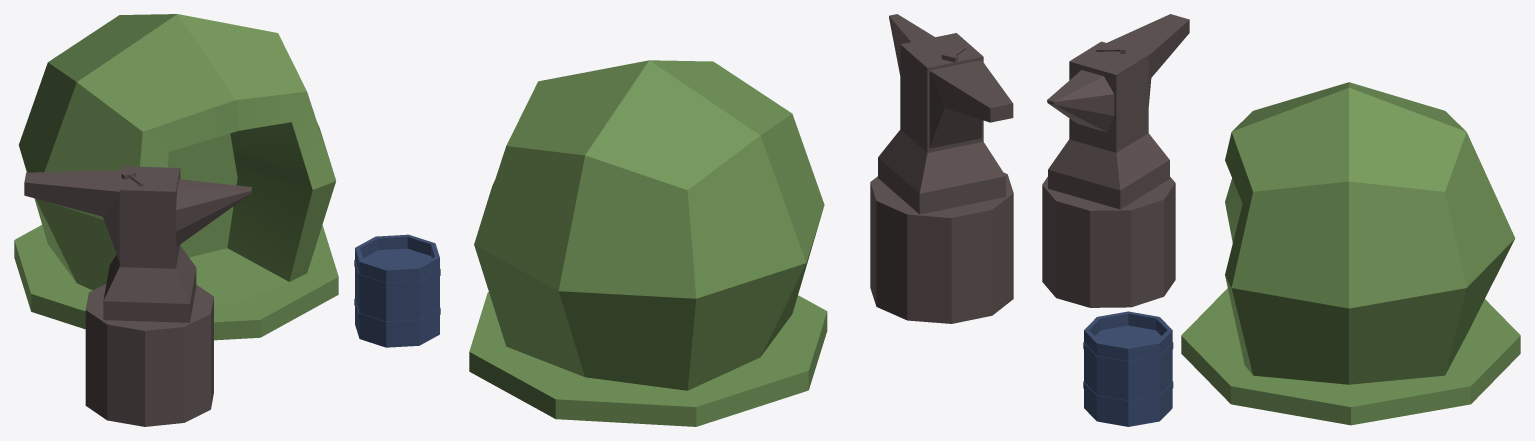
File: forjaPrueba.fbx
3 renders of one model, left to right at view 1: azimuth 30°, elevation 25°; view 2: azimuth 150°, elevation 25°; view 3: azimuth 270°, elevation 25°, orthographic. The views are drawn at different scales.
Visible parts, largest first — view 1: Forja; view 2: Forja; view 3: Forja.
Part boxes in pixels (<box>): Forja: <box>14,14,440,426</box>; Forja: <box>469,14,1013,426</box>; Forja: <box>1042,14,1520,426</box>.
Bounding box in the file's own units: 5.2 × 3.34 × 5.45.
